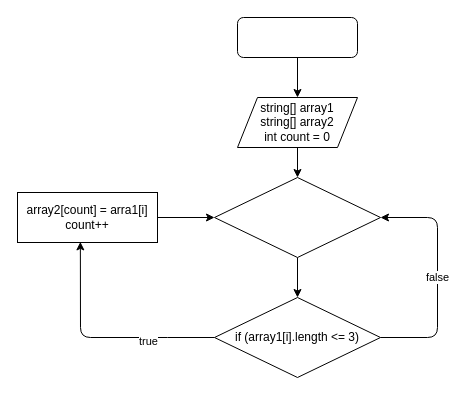
The diagram is 466 pixels wide and 395 high, and some of its shapes have lost their labels. The shapes that lost their labels are listed below. From the top down, each one's box as (x1, y1, x2, y2) in pixels, then its label:
(236, 16, 358, 58): SecondArrayWithIF
(214, 176, 380, 258): for (int i = 0; i < array1.length; i++)
